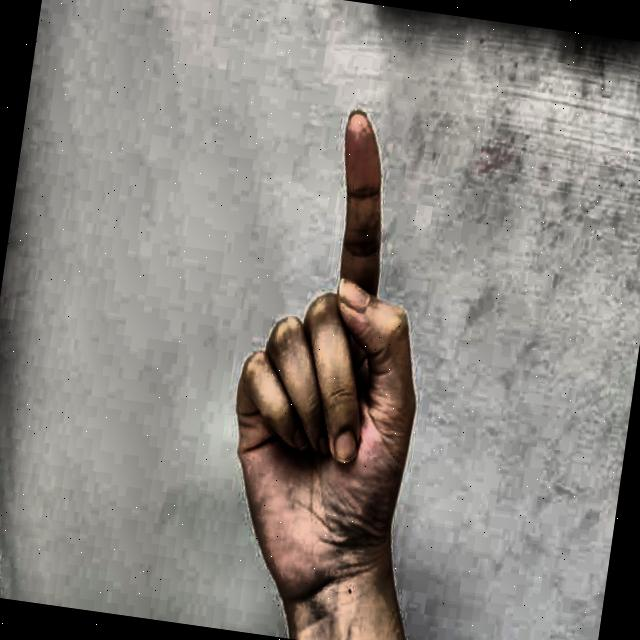U: (176, 76, 474, 602)
